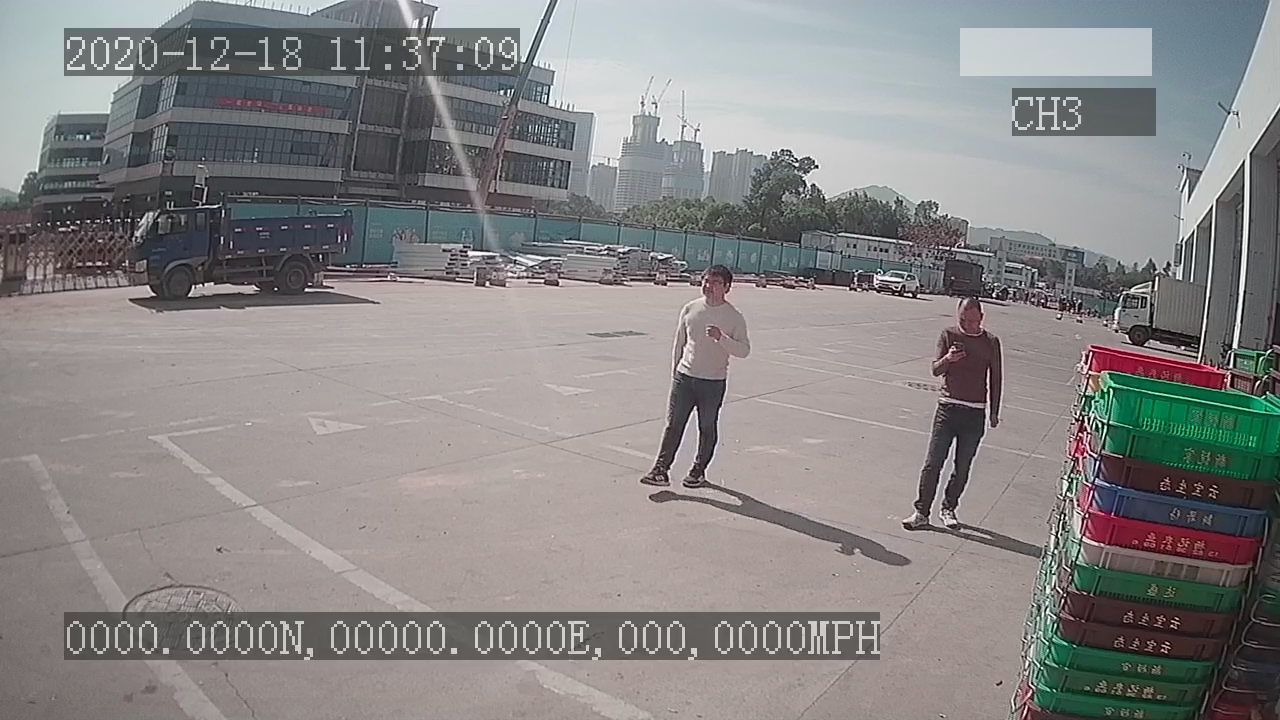person: (641, 263, 753, 491), (902, 296, 1009, 534)
